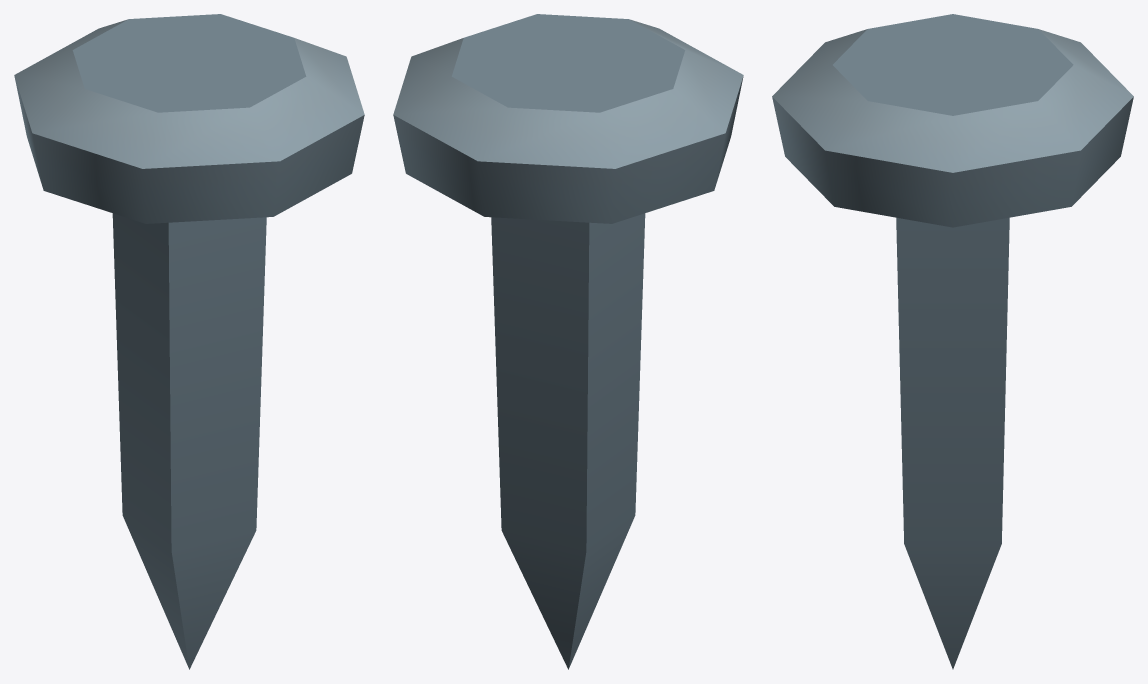
File: nail.glb
3 renders of one model, left to right at view 1: azimuth 30°, elevation 25°; view 2: azimuth 150°, elevation 25°; view 3: azimuth 270°, elevation 25°, orthographic.
Parts seen in each view (by area): view 1: nail; view 2: nail; view 3: nail.
Part boxes in pixels (x1,y1,x2,y2): nail: [14, 14, 364, 669]; nail: [393, 14, 743, 669]; nail: [772, 14, 1133, 669].
Bounding box in the file's own units: 0.0953 × 0.1759 × 0.0953.
Materials: 1 (1 with a texture image).
